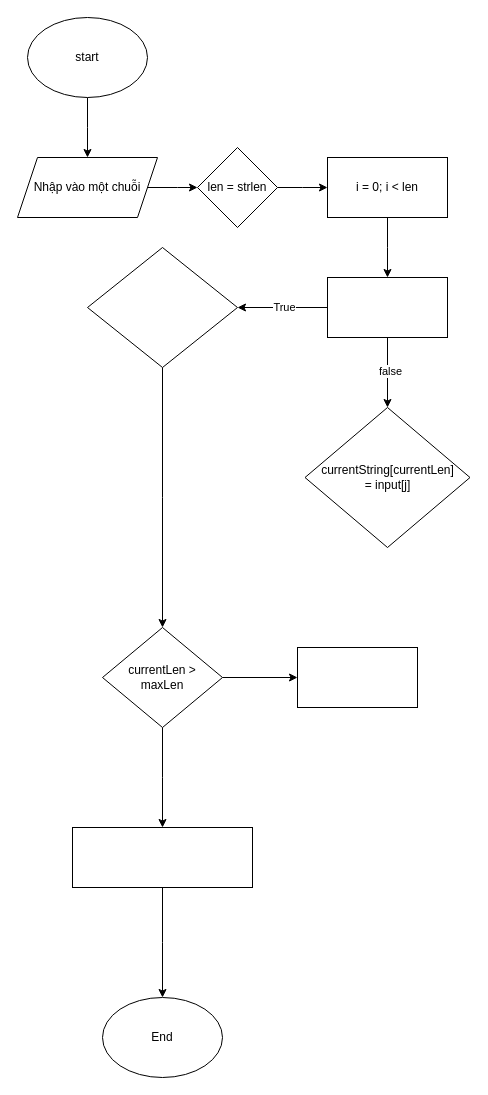
This 488x1095 diagram has some shape labels left out. Each missing label, with the box of its shape:
Chuỗi có độ dài lớn nhất là: maxLen, maxDistinctString: (72, 826, 252, 888)
j = i; j < len: (326, 276, 448, 338)
maxLen = currentLen: (296, 646, 418, 708)
strchr(currentString) = NULL: (86, 246, 238, 368)
